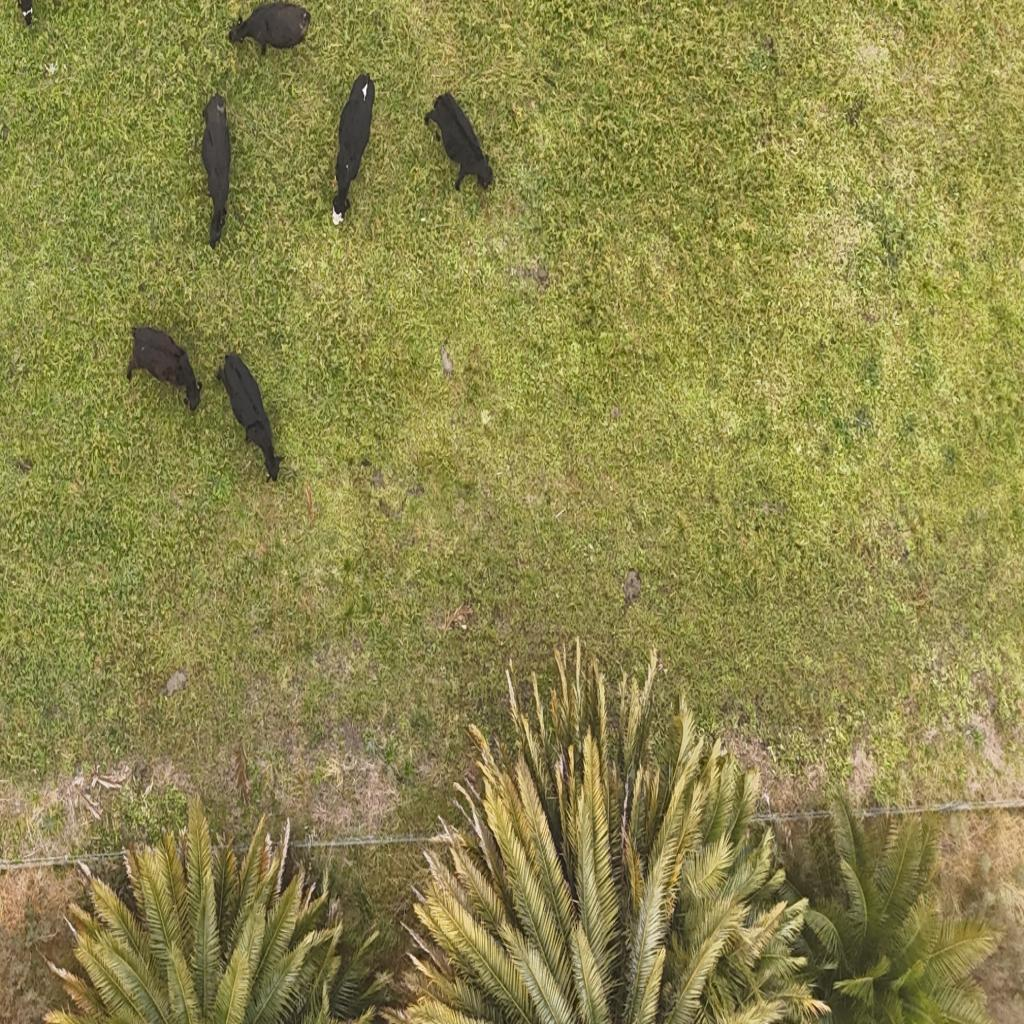cow: (216, 351, 282, 481), (426, 93, 496, 196), (126, 324, 205, 414), (331, 73, 377, 227), (200, 92, 232, 250), (228, 2, 310, 59)
